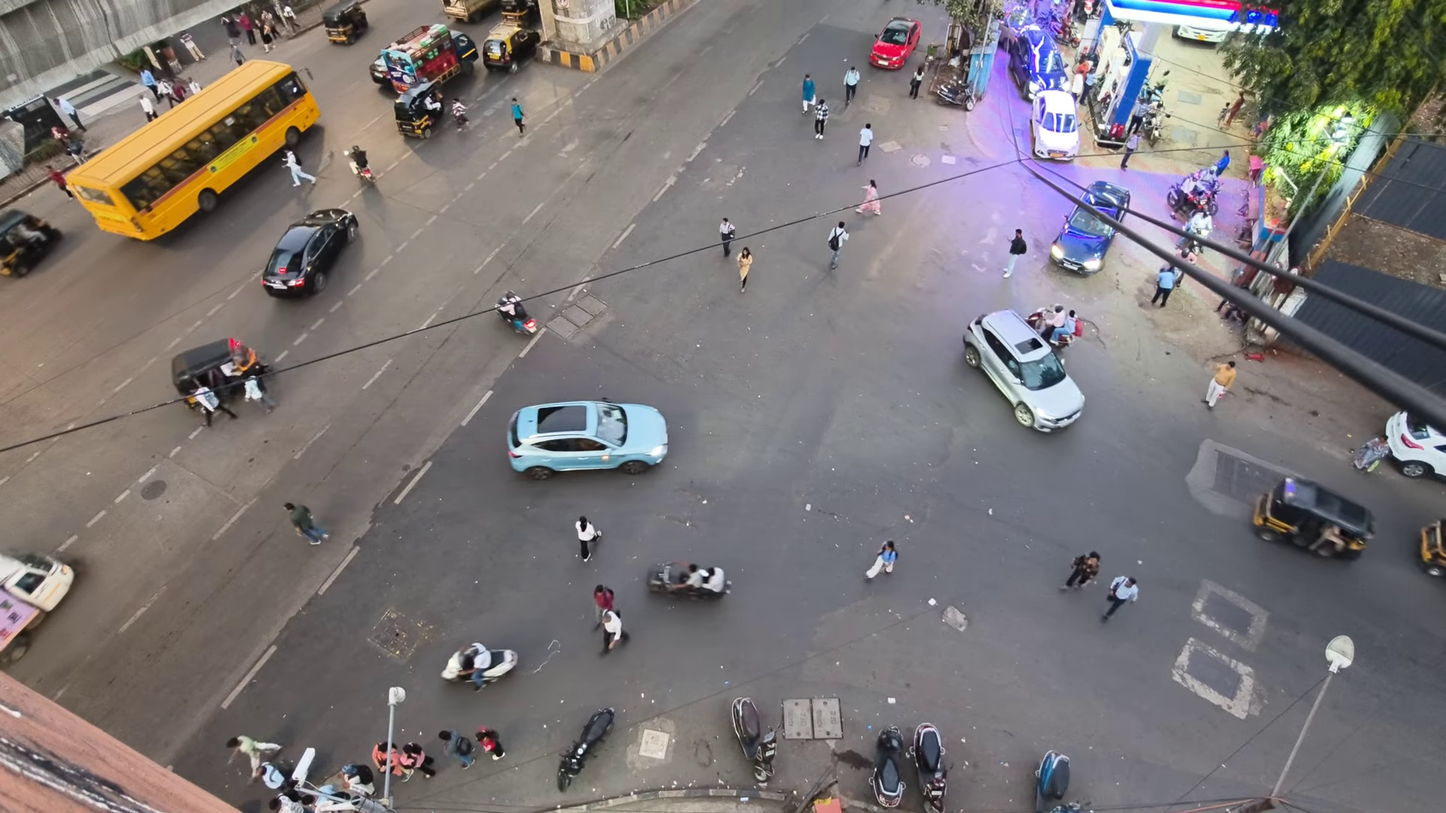driving: (66, 59, 319, 239), (963, 310, 1084, 431), (507, 400, 667, 480), (1252, 477, 1374, 559), (261, 208, 358, 296), (0, 554, 74, 666), (172, 337, 266, 410), (381, 24, 474, 93), (1008, 25, 1068, 99), (1050, 206, 1115, 274), (0, 209, 60, 277), (1384, 411, 1445, 477), (731, 697, 776, 785), (1030, 89, 1079, 160), (481, 20, 541, 72), (646, 562, 731, 598), (393, 82, 444, 139), (870, 17, 921, 69), (322, 0, 368, 44), (496, 291, 538, 334), (1419, 520, 1446, 577), (935, 77, 977, 110), (442, 0, 501, 23), (502, 0, 539, 25), (369, 55, 394, 90)
walking: (226, 736, 282, 778), (284, 502, 328, 544), (190, 386, 236, 426), (1101, 576, 1138, 621), (1060, 551, 1100, 590), (371, 742, 409, 780), (1205, 361, 1236, 407), (439, 730, 474, 769), (601, 609, 629, 654), (401, 742, 435, 778), (575, 516, 601, 562), (244, 376, 276, 413), (284, 149, 316, 186), (866, 540, 896, 579), (340, 763, 374, 797), (1003, 230, 1027, 278), (1151, 266, 1176, 307), (828, 221, 848, 269), (57, 97, 85, 131), (477, 726, 505, 760), (593, 585, 614, 629), (47, 166, 74, 199), (856, 179, 880, 215), (178, 31, 206, 60), (856, 123, 873, 165), (1120, 132, 1139, 169), (236, 11, 256, 46), (1223, 92, 1244, 125), (737, 247, 752, 293), (140, 68, 159, 101), (719, 218, 735, 257), (220, 16, 240, 46), (450, 97, 468, 129), (814, 98, 828, 139), (846, 67, 860, 107), (157, 79, 175, 108), (802, 74, 815, 114), (909, 65, 924, 99), (281, 5, 298, 35), (139, 95, 157, 122), (511, 97, 524, 134), (260, 20, 275, 52), (1215, 149, 1230, 177), (230, 42, 244, 65), (188, 78, 201, 95)
